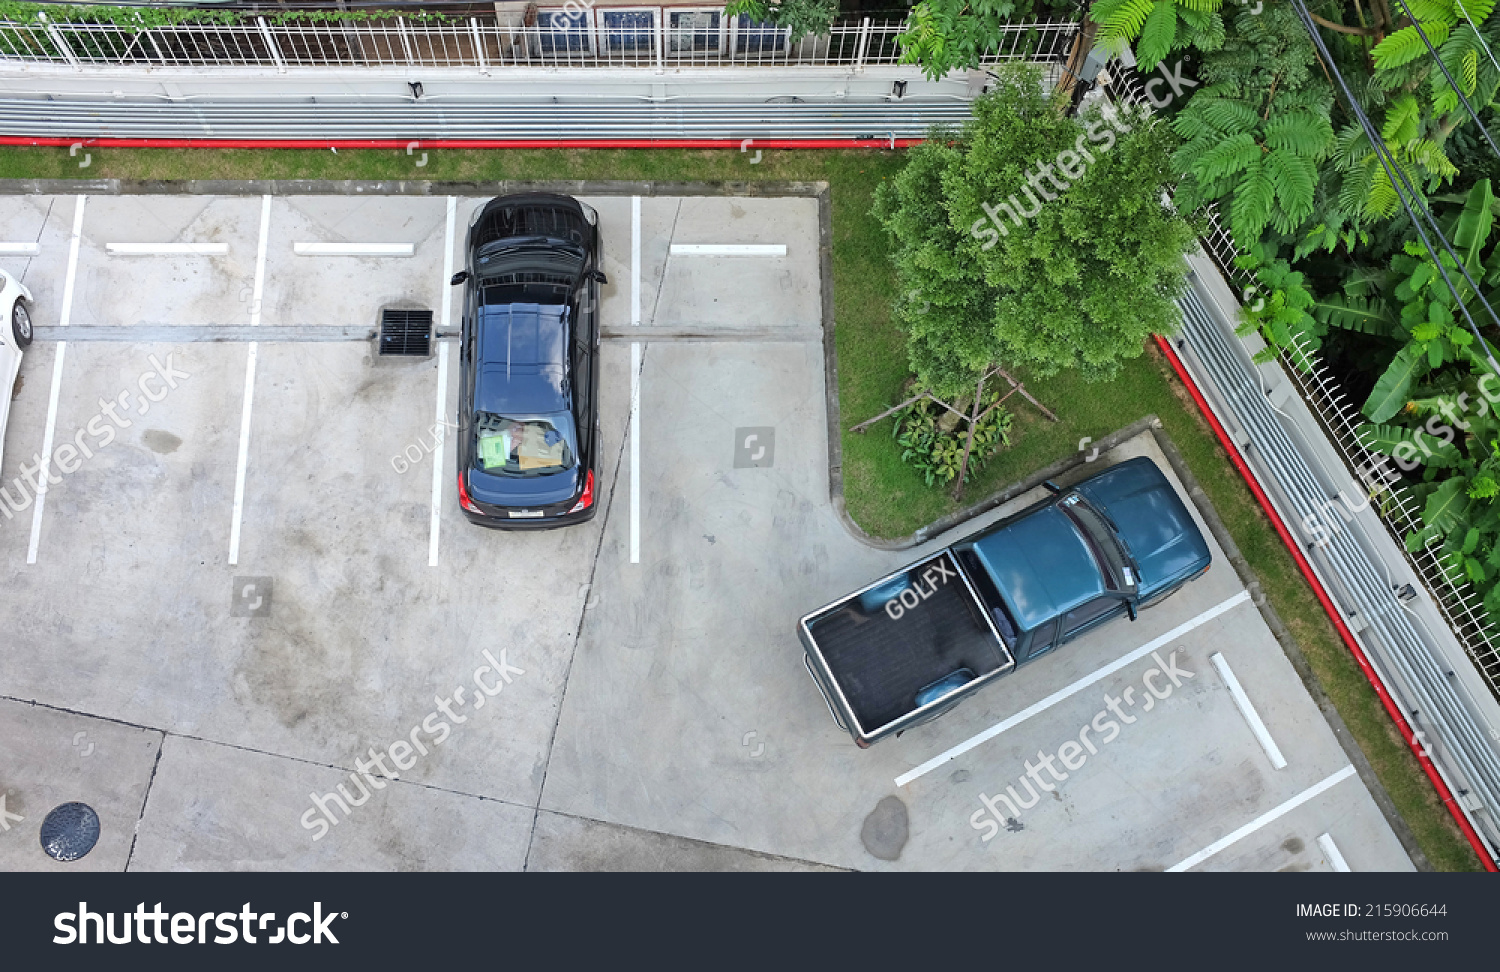Car: (790, 450, 1212, 759), (448, 189, 606, 540)
LaneMark: (16, 191, 90, 572), (1139, 766, 1353, 869), (218, 192, 273, 565), (619, 195, 649, 575), (886, 723, 1022, 786), (1018, 665, 1155, 715), (1118, 617, 1231, 657), (1199, 592, 1255, 614)
